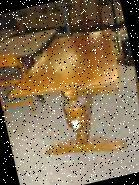Mesa: (0, 25, 138, 169)
